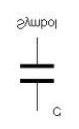Capacitor: (14, 50, 61, 95)
